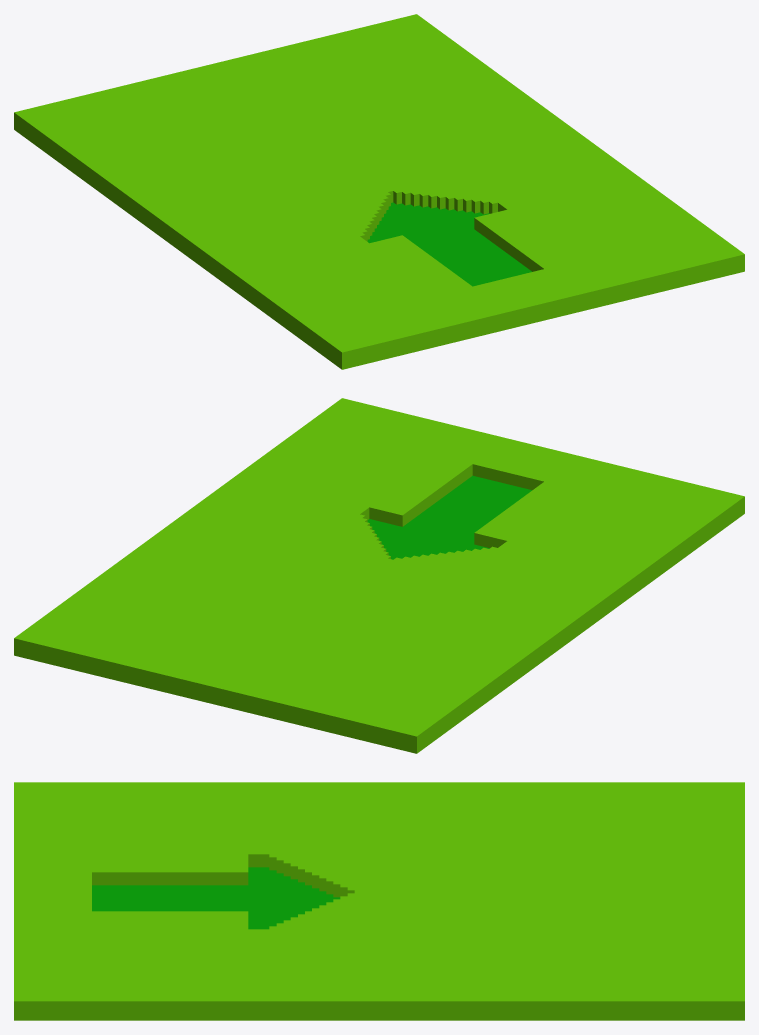
File: cabin-9.obj
3 renders of one model, top to bottom at view 1: azimuth 30°, elevation 25°; view 2: azimuth 150°, elevation 25°; view 3: azimuth 270°, elevation 25°, orthographic. The views are drawn at different scales.
Bounding box in the file's own units: 7.3 × 0.3 × 10.3.
Materials: 1 (1 with a texture image).
